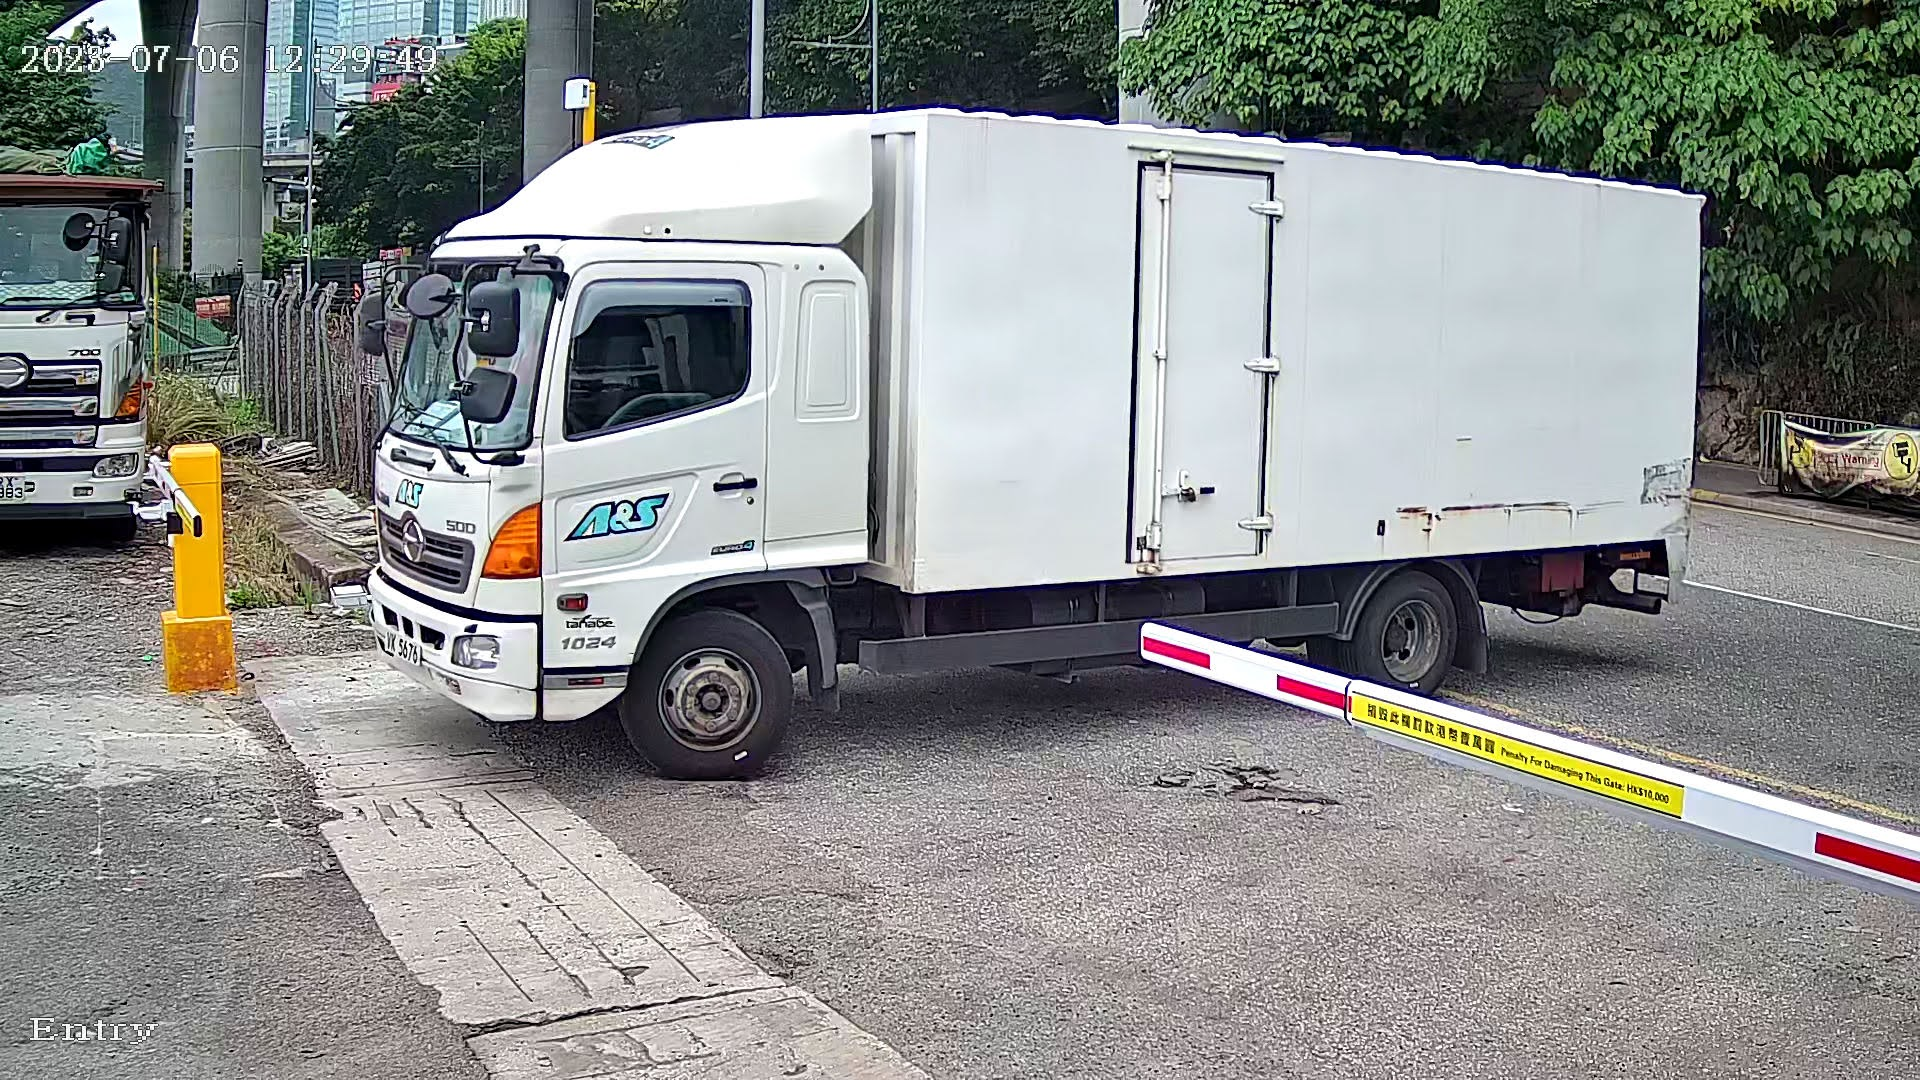truck: (307, 45, 1742, 829)
